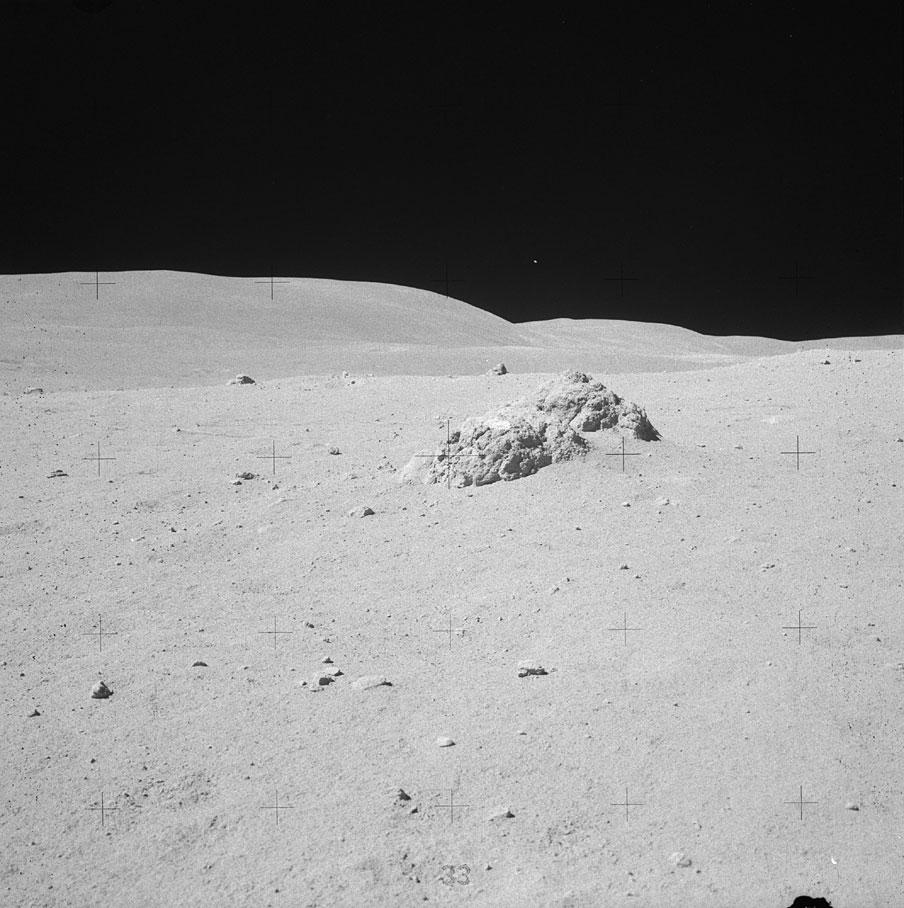rock: (429, 371, 660, 486)
